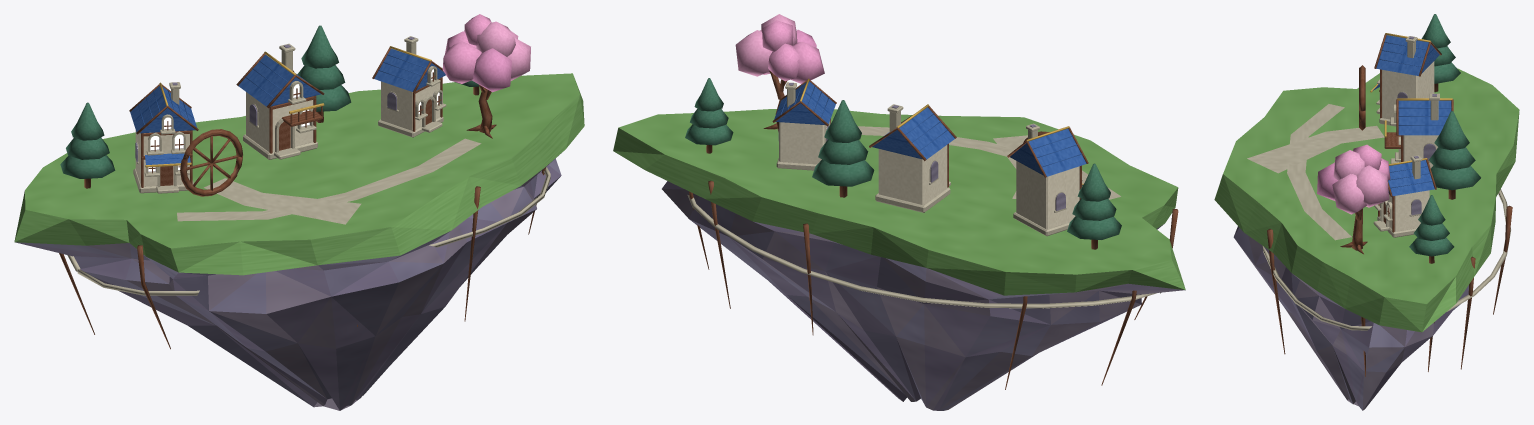
The model's file is sky-hamlet.glb.
3 renders of one model, left to right at view 1: azimuth 30°, elevation 25°; view 2: azimuth 150°, elevation 25°; view 3: azimuth 270°, elevation 25°, orthographic. The views are drawn at different scales.
Parts seen in each view (by area): view 1: sky-hamlet; view 2: sky-hamlet; view 3: sky-hamlet.
Boxes of the visible parts, x1,y1,x2,y2 form: sky-hamlet: [14, 14, 584, 410]; sky-hamlet: [613, 14, 1185, 410]; sky-hamlet: [1214, 14, 1519, 410].
Bounding box in the file's own units: 17.7 × 10.43 × 9.01.
Materials: 10 (10 with a texture image).
